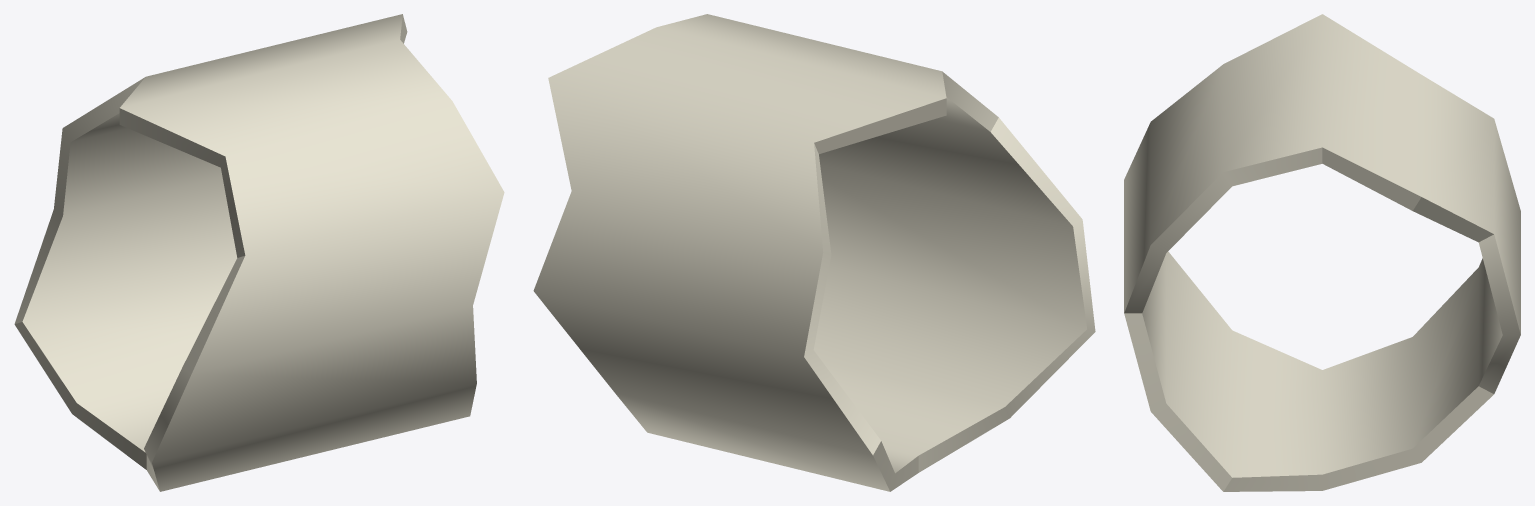
File: broken_pipe_2.fbx
The picture shows the model from 3 angles, left to right: view 1: azimuth 30°, elevation 25°; view 2: azimuth 150°, elevation 25°; view 3: azimuth 270°, elevation 25°; orthographic projection. The views are drawn at different scales.
Visible parts, largest first — view 1: Broken_Pipe_2; view 2: Broken_Pipe_2; view 3: Broken_Pipe_2.
Boxes of the visible parts, left/top/right/bottom form: Broken_Pipe_2: left=14, top=14, right=504, bottom=491; Broken_Pipe_2: left=533, top=14, right=1095, bottom=491; Broken_Pipe_2: left=1124, top=14, right=1520, bottom=491.
Bounding box in the file's own units: 4.87 × 4.4 × 4.4.
